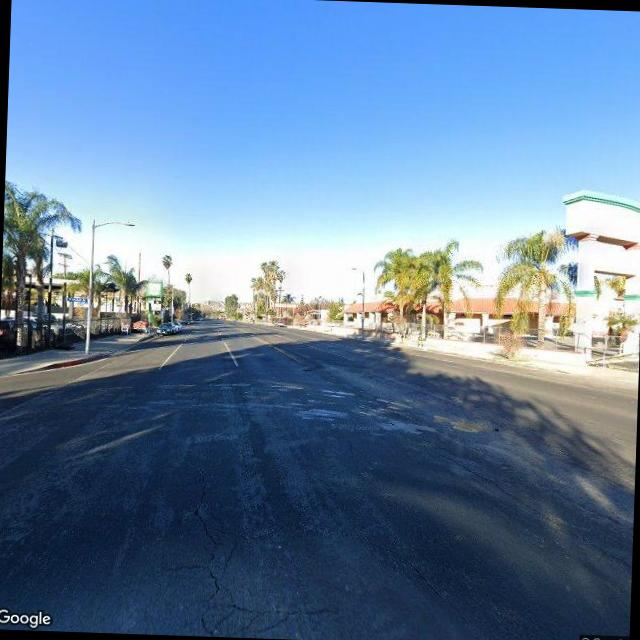pothole: (432, 451, 630, 562), (184, 428, 265, 637)
